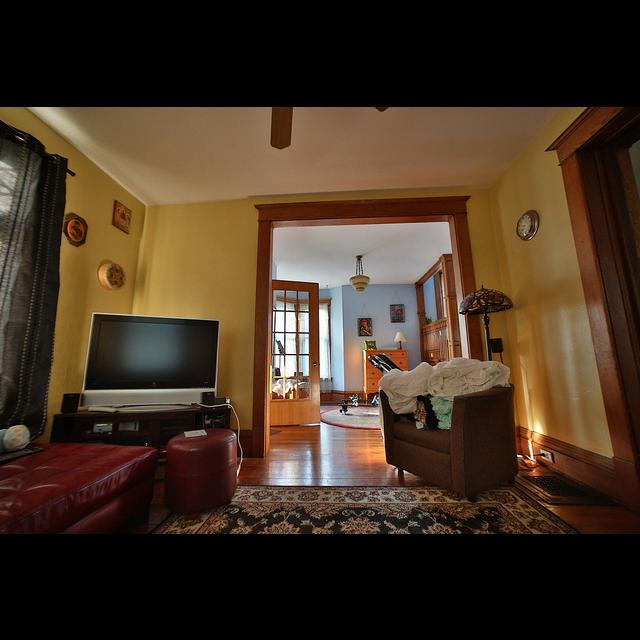Flat-Panel-TV: (75, 308, 222, 413)
